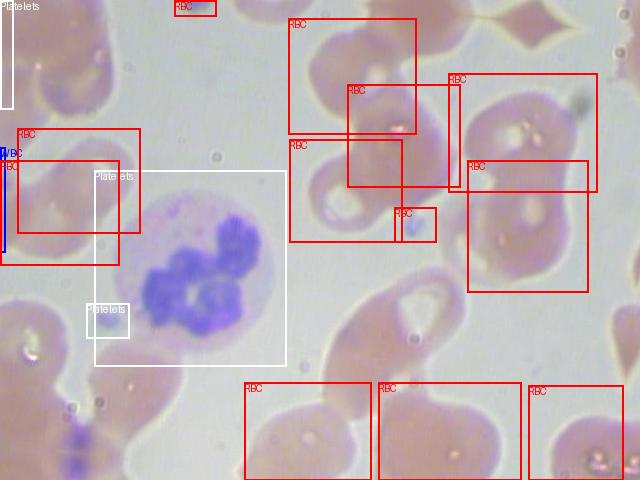Platelets: (94, 170, 286, 366), (86, 303, 129, 338), (0, 0, 13, 109)
RBC: (448, 73, 597, 192), (467, 160, 588, 292), (288, 18, 416, 134), (378, 382, 521, 480), (17, 128, 140, 233), (0, 160, 119, 265), (244, 382, 371, 480), (289, 139, 402, 242), (347, 84, 460, 187), (528, 385, 623, 480), (394, 207, 436, 242), (174, 0, 216, 16)
WBC: (0, 147, 5, 252)
